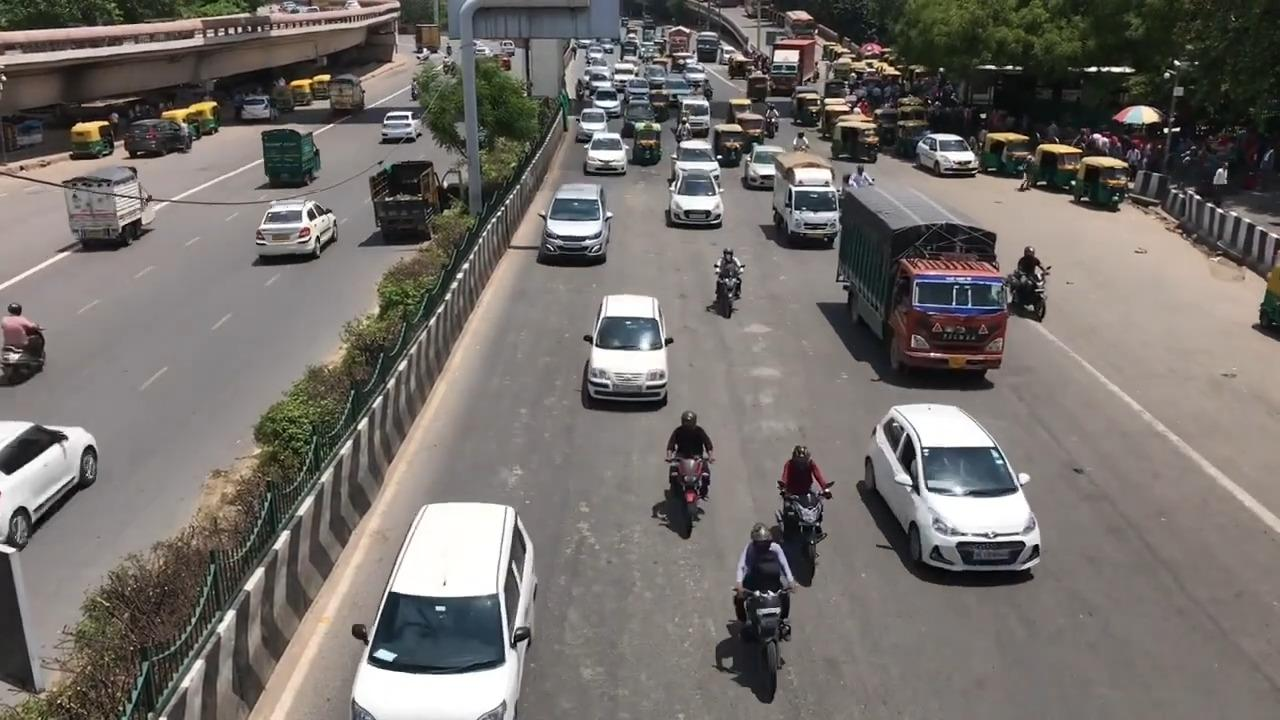Auto: (68, 119, 115, 159)
Bike: (727, 512, 797, 703), (777, 435, 838, 587), (664, 408, 717, 539), (1006, 238, 1055, 322), (0, 301, 46, 385), (710, 241, 745, 319)
Truck: (834, 182, 1009, 377), (61, 164, 155, 248), (368, 159, 463, 242), (771, 151, 842, 245), (260, 127, 320, 188)
